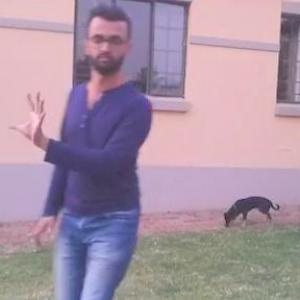follow_hand: (5, 84, 51, 145)
